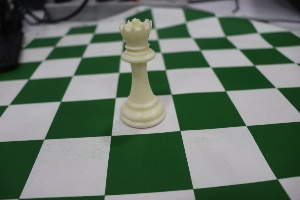white_queen: (101, 8, 176, 135)
